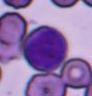L: (23, 26, 68, 72)
